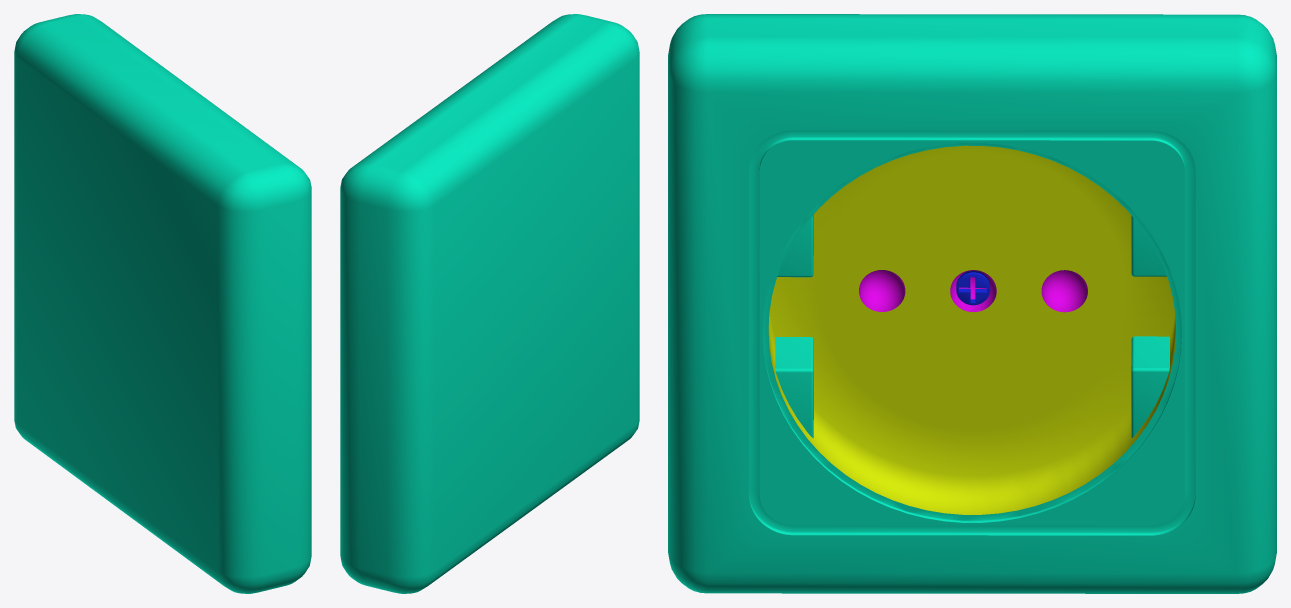
Rendered from Steckdose.fbx.
The picture shows the model from 3 angles, left to right: view 1: azimuth 30°, elevation 25°; view 2: azimuth 150°, elevation 25°; view 3: azimuth 270°, elevation 25°; orthographic projection. The views are drawn at different scales.
Parts seen in each view (by area): view 1: Cylinder.088; view 2: Cylinder.088; view 3: Cylinder.088.
Part boxes in pixels (box(x1,y1,x2,y2)): Cylinder.088: box(14, 14, 311, 593); Cylinder.088: box(340, 14, 639, 593); Cylinder.088: box(668, 14, 1276, 593).
Size of the model in its own units: 6.05 by 26.51 by 26.51.
